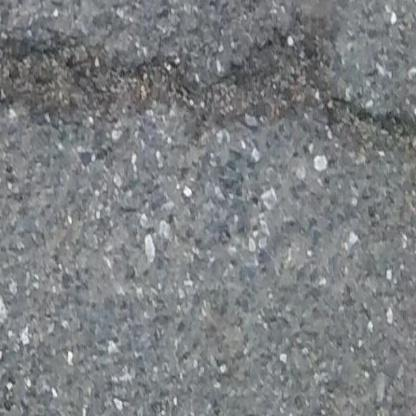Cracks: (0, 18, 416, 174)
